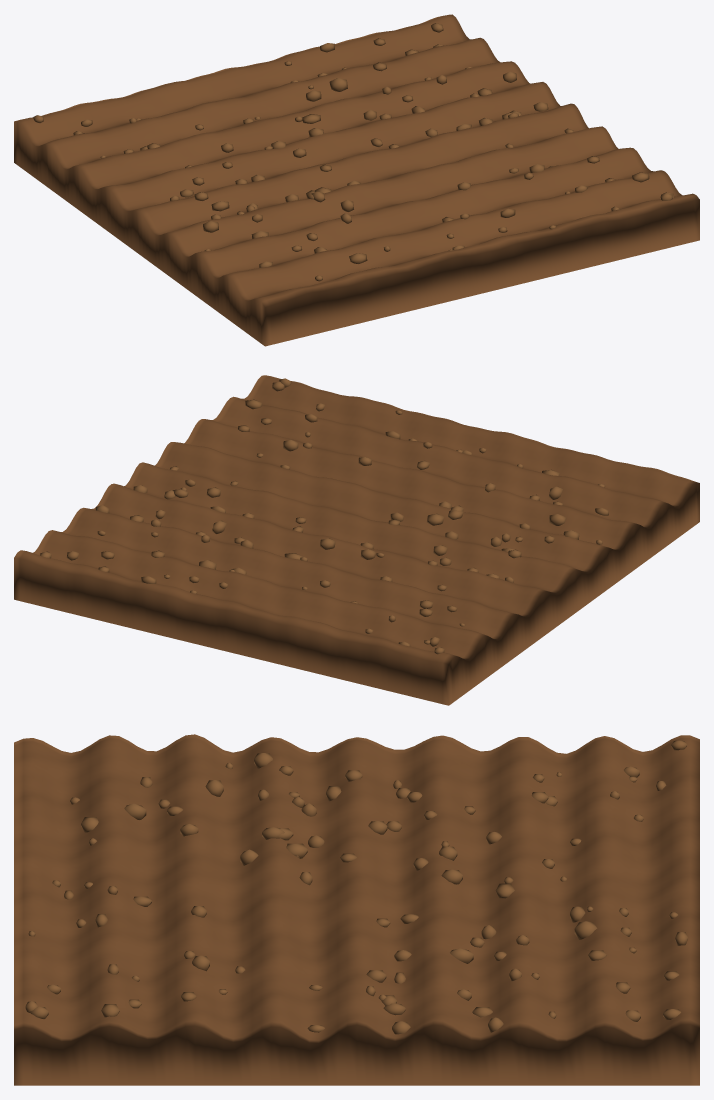
Rendered from solo.glb.
The picture shows the model from 3 angles, top to bottom: view 1: azimuth 30°, elevation 25°; view 2: azimuth 150°, elevation 25°; view 3: azimuth 270°, elevation 25°; orthographic projection. The views are drawn at different scales.
Parts seen in each view (by area): view 1: Solo arado | tile 4 x 4 m; view 2: Solo arado | tile 4 x 4 m; view 3: Solo arado | tile 4 x 4 m.
Boxes of the visible parts, x1=… form: Solo arado | tile 4 x 4 m: x1=14, y1=14, x2=699, y2=346; Solo arado | tile 4 x 4 m: x1=14, y1=375, x2=699, y2=705; Solo arado | tile 4 x 4 m: x1=14, y1=734, x2=699, y2=1085.
Size of the model in its own units: 4 by 0.4434 by 4.
